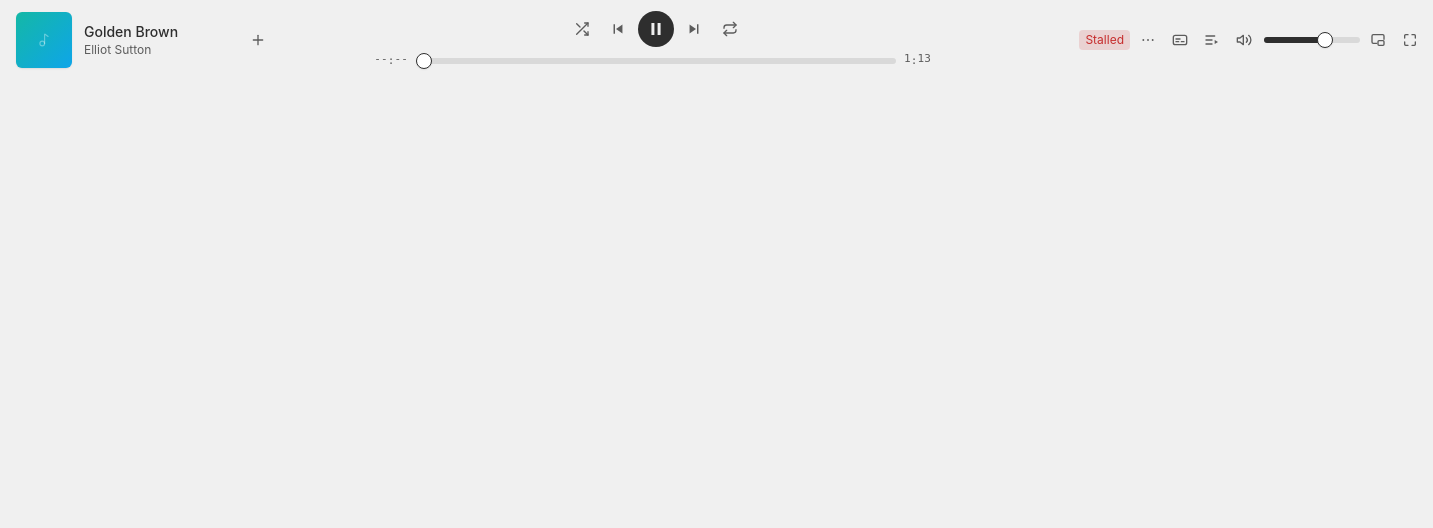
the overflow menu › sets a sleep timer, and says so on the row that opened it
Check: the text "Golden Brown" is shown, box [84, 23, 178, 40]
Click the button named "More player controls".
click(1148, 40)  # box [1134, 26, 1162, 54]
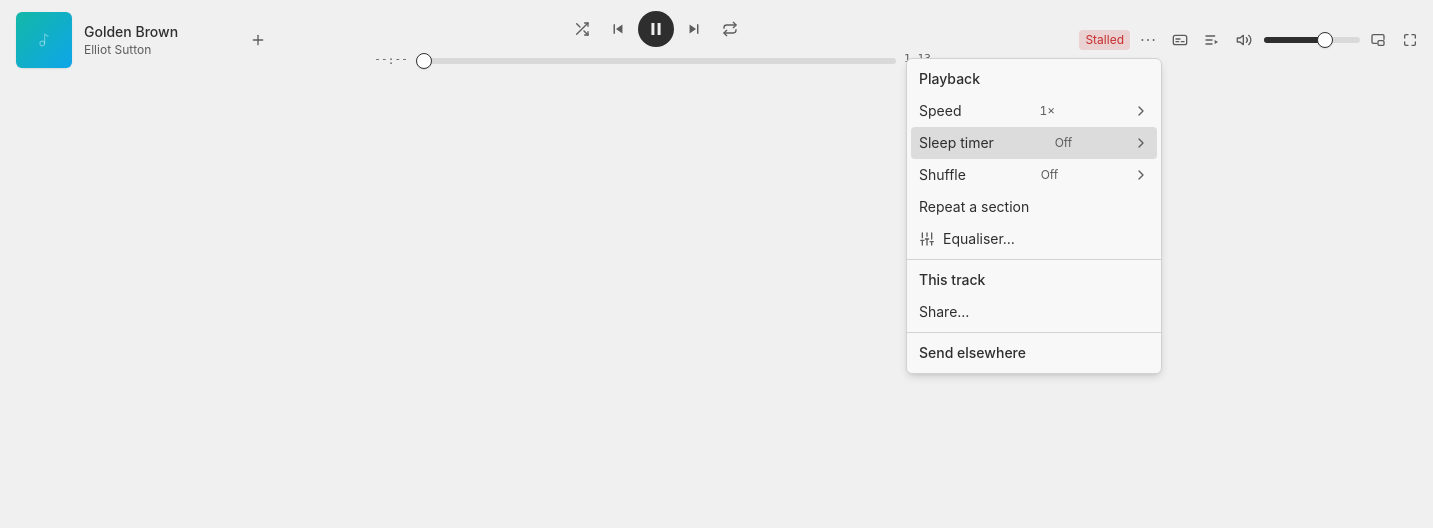
Press Arrowright
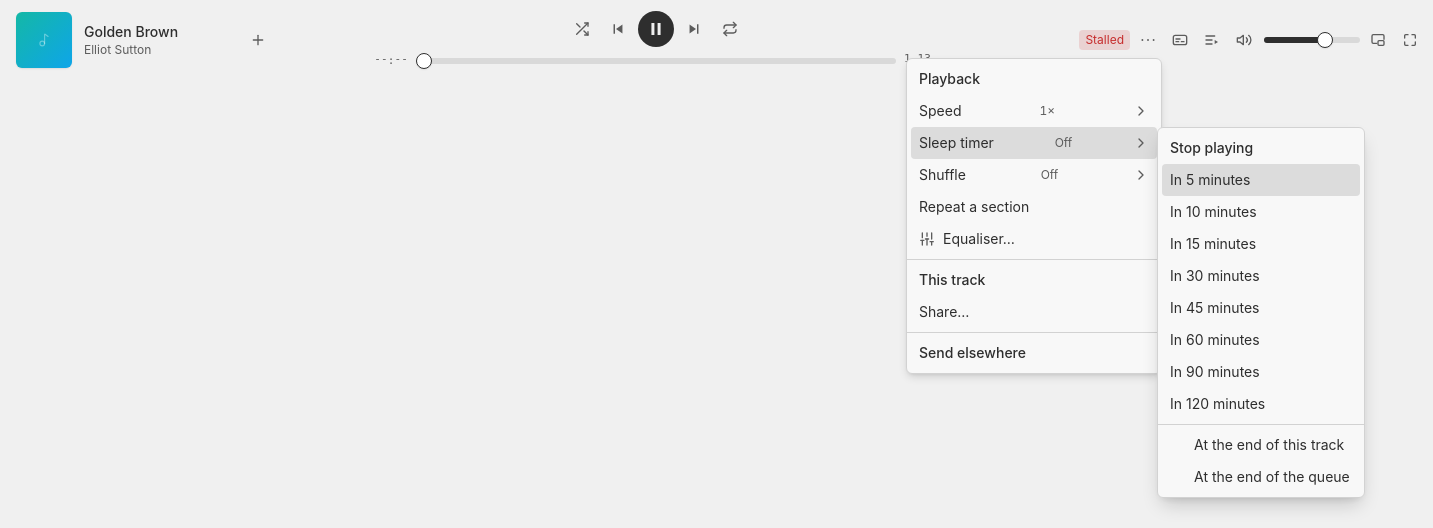
Press Arrowdown Arrowdown Arrowdown {ArrowD
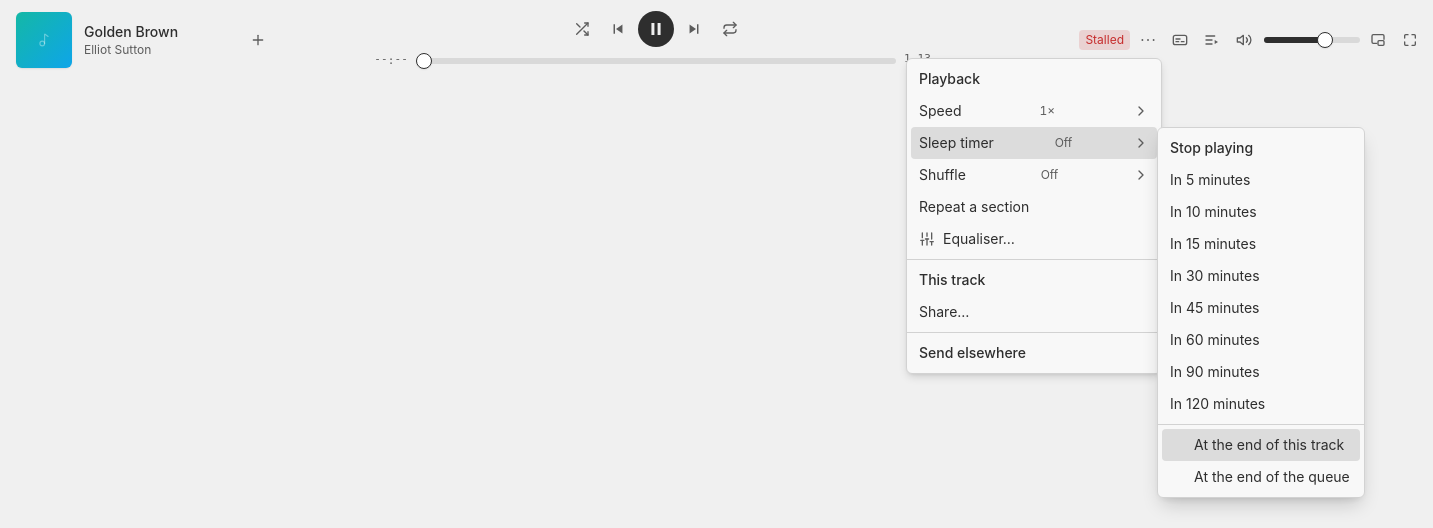
Press Enter
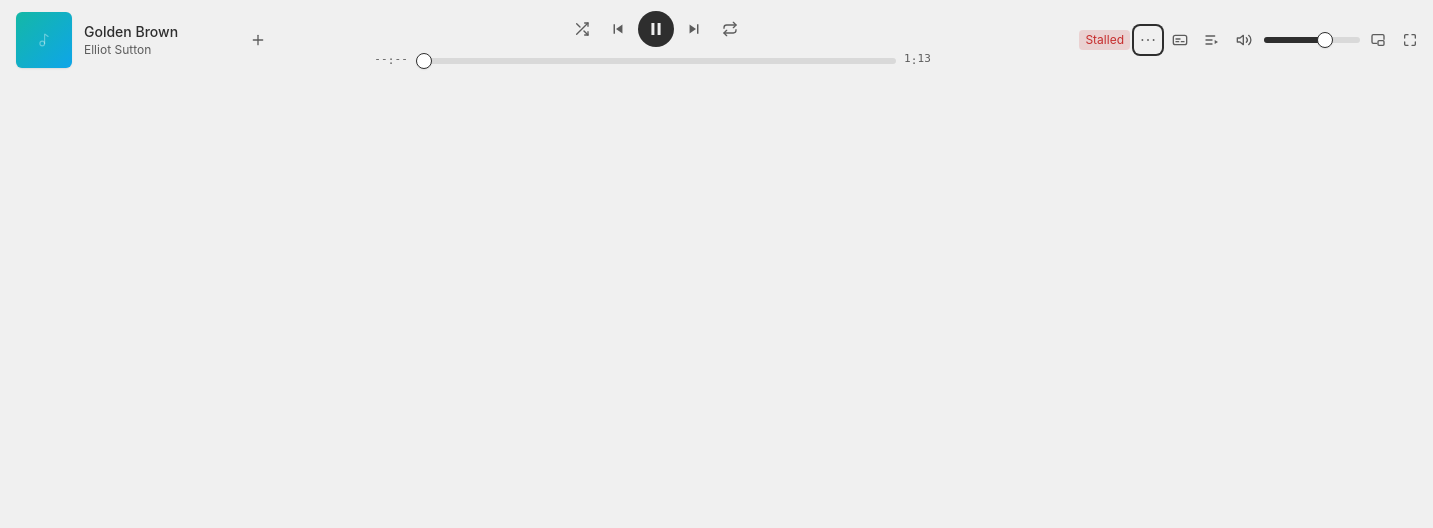
Check: the text "Golden Brown" is shown, box [84, 23, 178, 40]
Click the button named "More player controls".
click(1148, 40)  # box [1134, 26, 1162, 54]
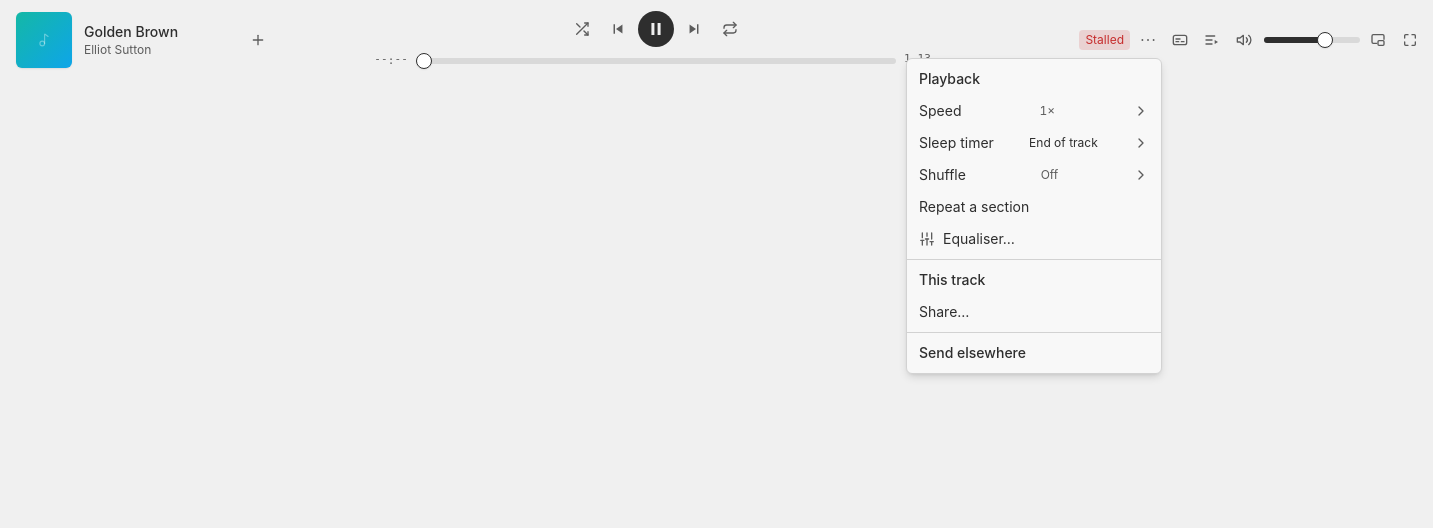
Check: the menu item "Sleep timer End of track" is shown, box [919, 134, 1149, 151]
